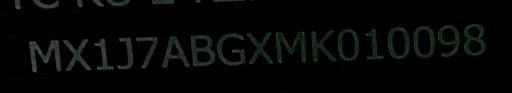letter: (24, 36, 62, 75), (274, 28, 308, 65), (159, 34, 189, 73), (62, 36, 92, 75), (134, 33, 162, 72), (216, 31, 246, 66), (309, 27, 337, 64), (247, 30, 275, 67), (410, 24, 438, 59), (334, 27, 362, 62), (462, 21, 488, 58), (188, 35, 216, 68), (436, 22, 462, 57), (386, 25, 412, 60), (360, 27, 384, 64), (114, 34, 136, 71), (94, 36, 112, 71)
